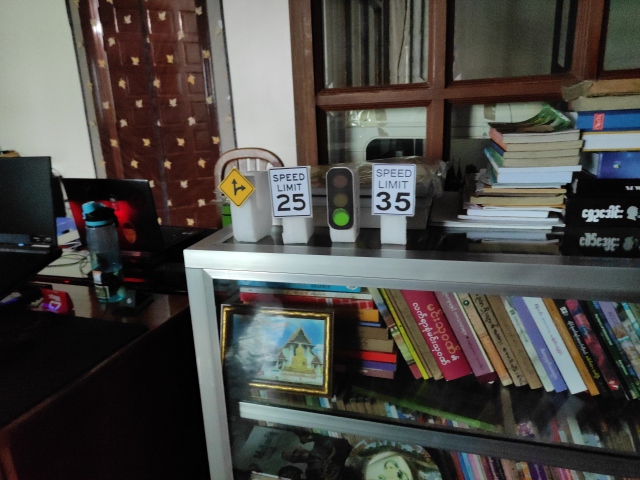Green Traffic Light: (326, 166, 356, 230)
Speed Limit 25: (267, 165, 312, 218)
Speed Limit 35: (370, 162, 417, 216)
Straight Or Right Sign: (219, 168, 256, 206)
